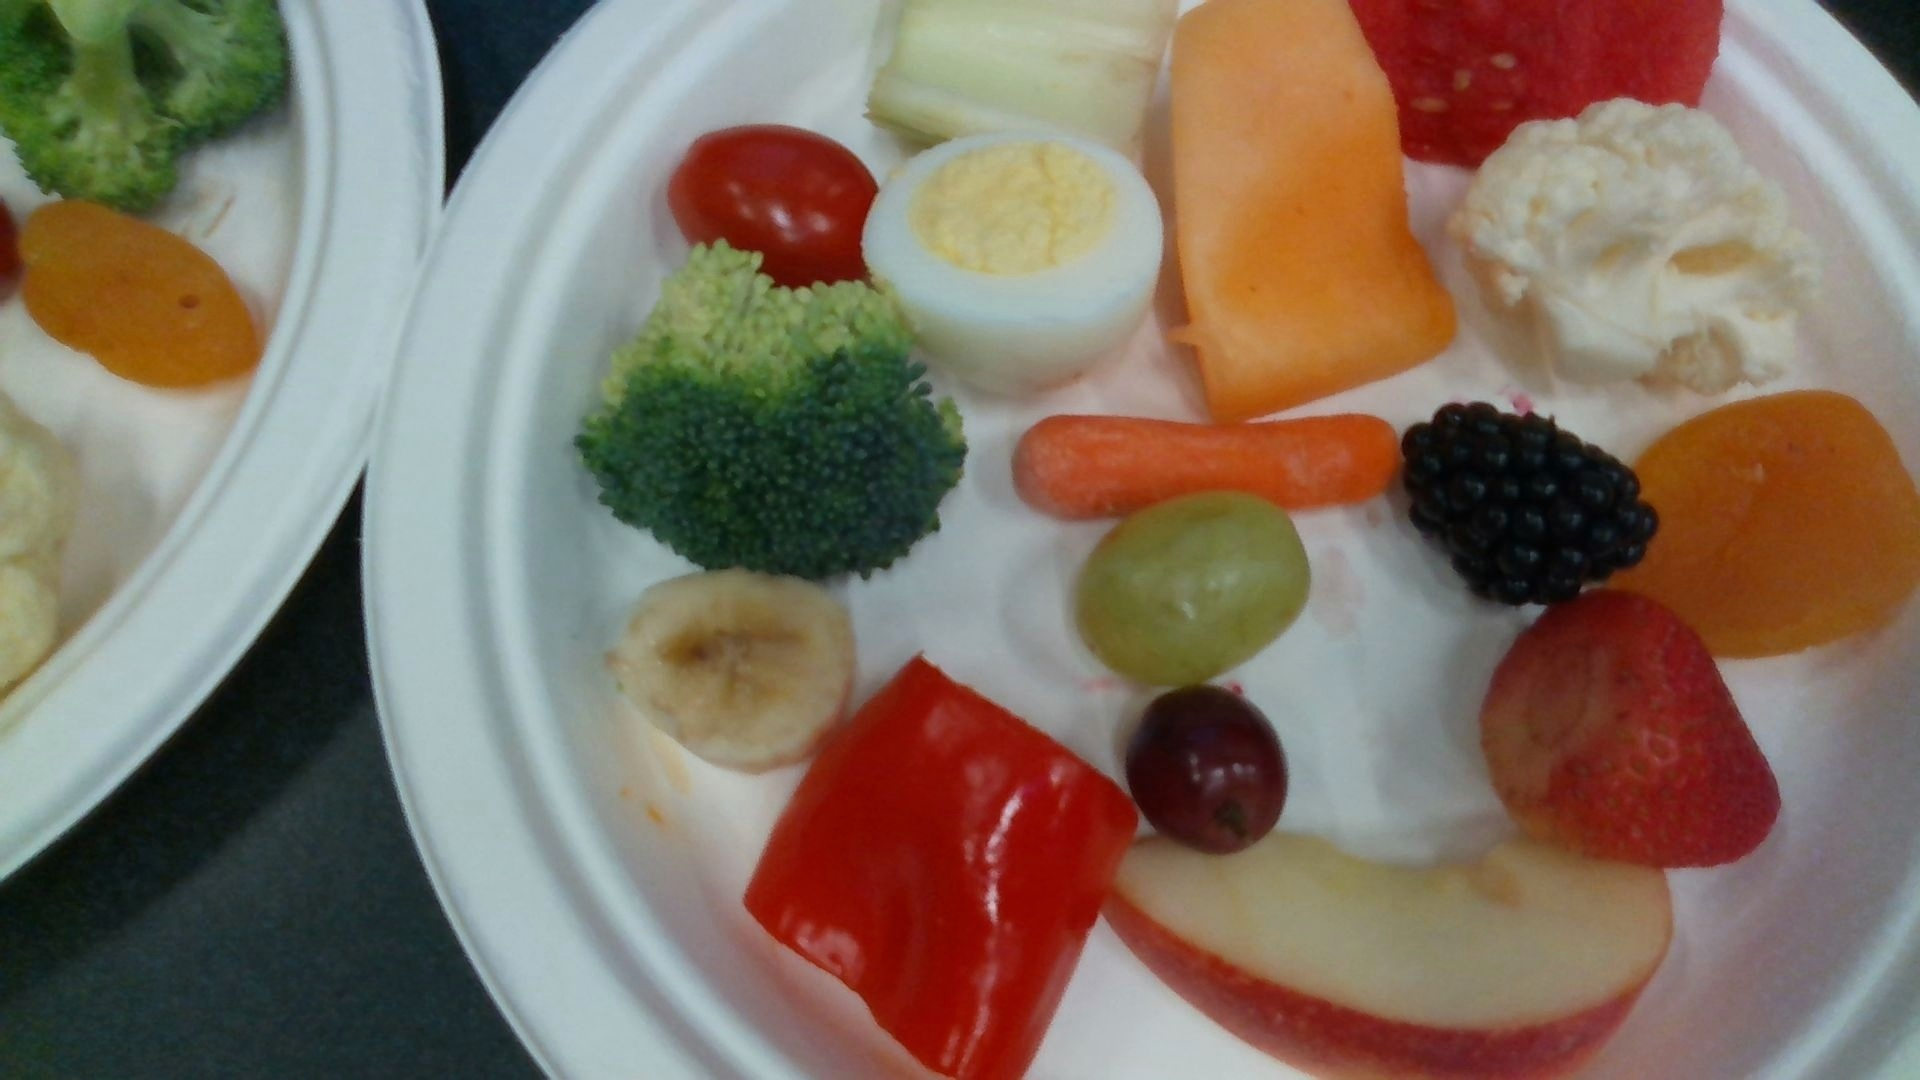apple: (1106, 836, 1669, 1080)
apricot: (1610, 393, 1920, 657), (18, 203, 260, 382)
banana: (607, 571, 851, 766)
bell_pepper: (745, 658, 1131, 1080)
blackberry: (1402, 405, 1654, 601)
broccoli: (580, 245, 953, 580), (3, 1, 285, 210)
cantalope: (1174, 1, 1455, 419)
carrot: (1014, 415, 1399, 518)
cauliflower: (1449, 102, 1811, 385)
celery: (866, 1, 1170, 153)
cherry_tomato: (670, 127, 880, 287)
egg: (864, 131, 1162, 392)
grape_green: (1077, 493, 1307, 680)
grape_purple: (1130, 686, 1284, 851)
melon: (1350, 1, 1720, 165)
strawberry: (1482, 593, 1779, 862)
